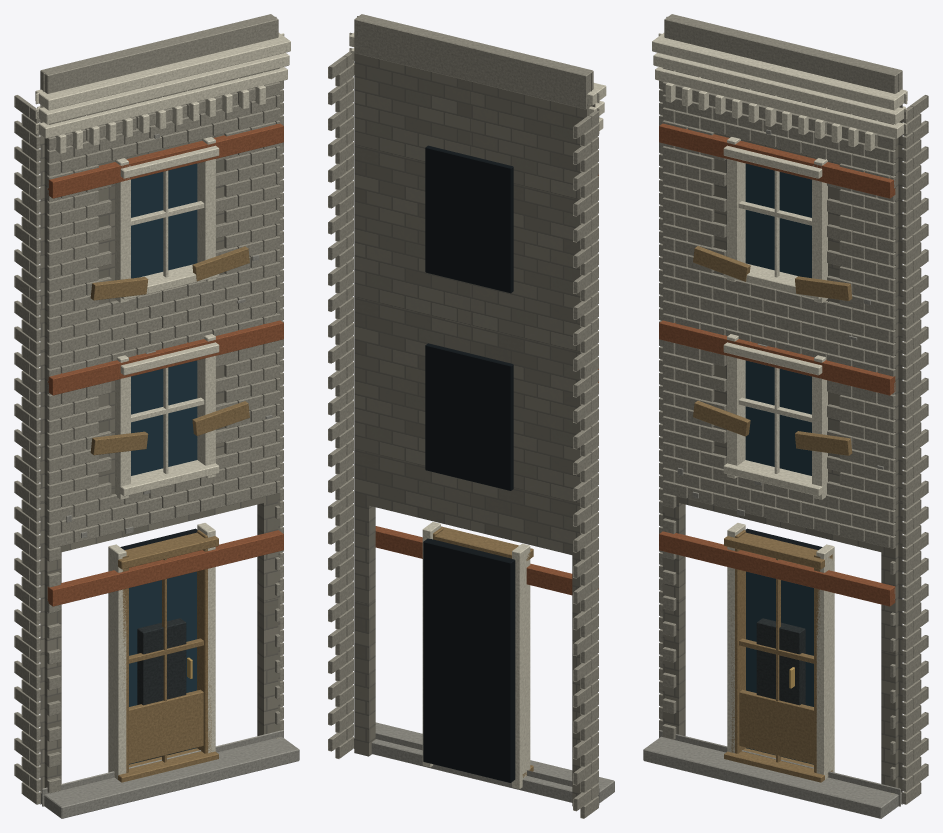
The model's file is WHSE22_lod0.glb.
3 renders of one model, left to right at view 1: azimuth 30°, elevation 25°; view 2: azimuth 150°, elevation 25°; view 3: azimuth 330°, elevation 25°, orthographic.
Parts seen in each view (by area): view 1: WHSE22_FRONT_LOD0; view 2: WHSE22_FRONT_LOD0; view 3: WHSE22_FRONT_LOD0.
Part boxes in pixels (x1,y1,x2,y2): WHSE22_FRONT_LOD0: (14,14,299,818); WHSE22_FRONT_LOD0: (328,14,614,818); WHSE22_FRONT_LOD0: (643,14,928,818).
Bounding box in the file's own units: 3.44 × 9.66 × 1.02.
Materials: 13 (10 with a texture image).
